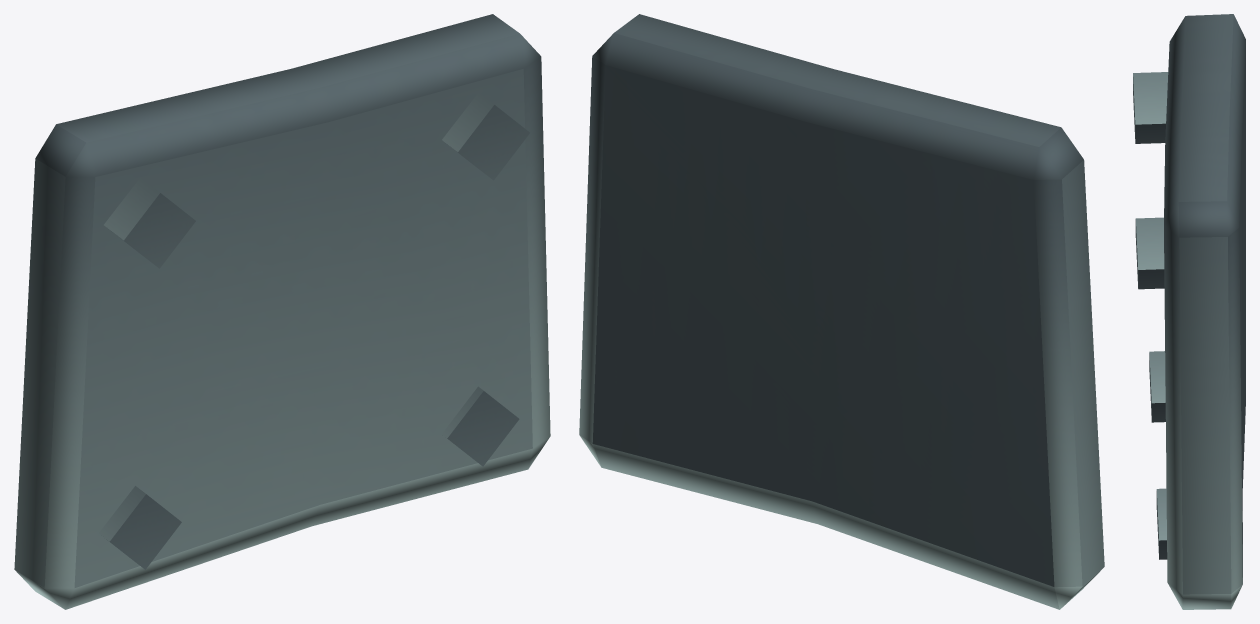
The model's file is metal_plane.fbx.
The picture shows the model from 3 angles, left to right: view 1: azimuth 30°, elevation 25°; view 2: azimuth 150°, elevation 25°; view 3: azimuth 270°, elevation 25°; orthographic projection. The views are drawn at different scales.
Visible parts, largest first — view 1: metal_plane; view 2: metal_plane; view 3: metal_plane.
Boxes of the visible parts, x1=… form: metal_plane: x1=14, y1=14, x2=550, y2=609; metal_plane: x1=579, y1=14, x2=1104, y2=609; metal_plane: x1=1133, y1=14, x2=1245, y2=609.
Bounding box in the file's own units: 214 × 189 × 44.88.
